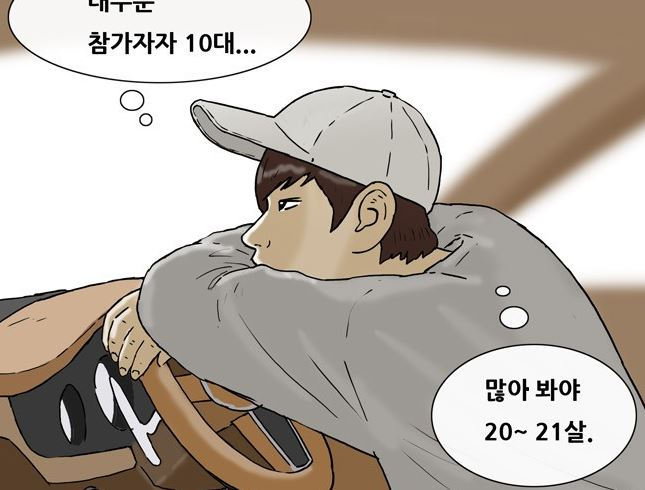hat: (189, 84, 443, 217)
